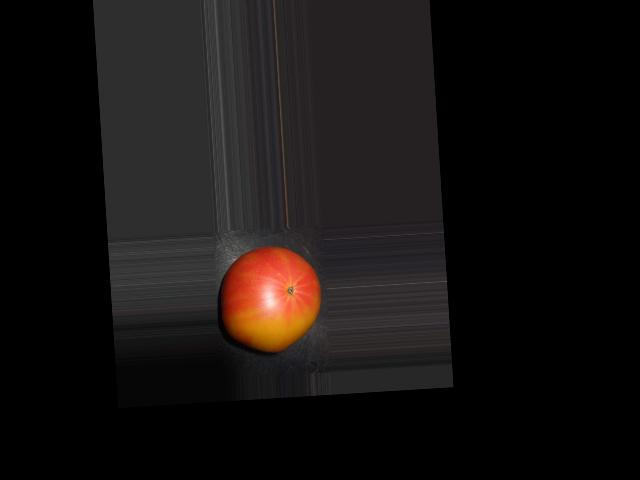tomato: (216, 243, 324, 354)
